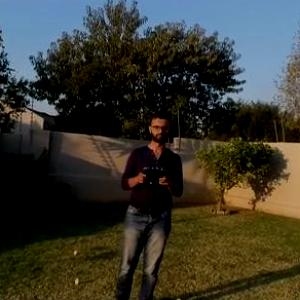follow: (114, 105, 187, 299)
